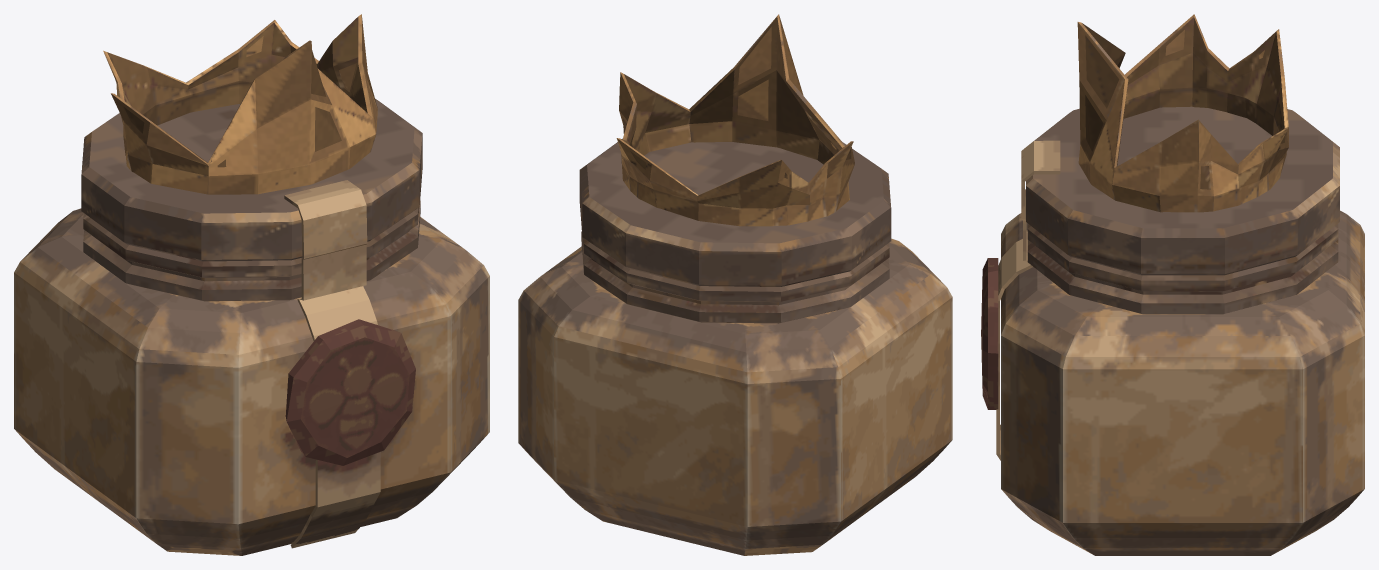
File: CI23_RoyalJelly.fbx
3 views of the same model, side by side, from view 1: azimuth 30°, elevation 25°; view 2: azimuth 150°, elevation 25°; view 3: azimuth 270°, elevation 25° (orthographic). The views are drawn at different scales.
Visible parts, largest first — view 1: CI23_RoyalJelly; view 2: CI23_RoyalJelly; view 3: CI23_RoyalJelly.
Boxes of the visible parts, <box> form: CI23_RoyalJelly: <box>14,14,489,555</box>; CI23_RoyalJelly: <box>518,14,952,555</box>; CI23_RoyalJelly: <box>981,14,1364,555</box>.
Bounding box in the file's own units: 0.1658 × 0.2185 × 0.1589.
Materials: 1 (1 with a texture image).
